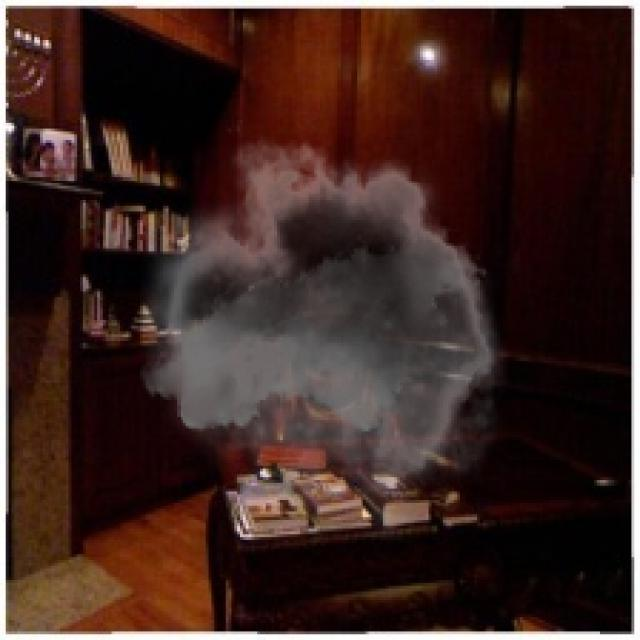Smoke: (140, 120, 520, 543)
